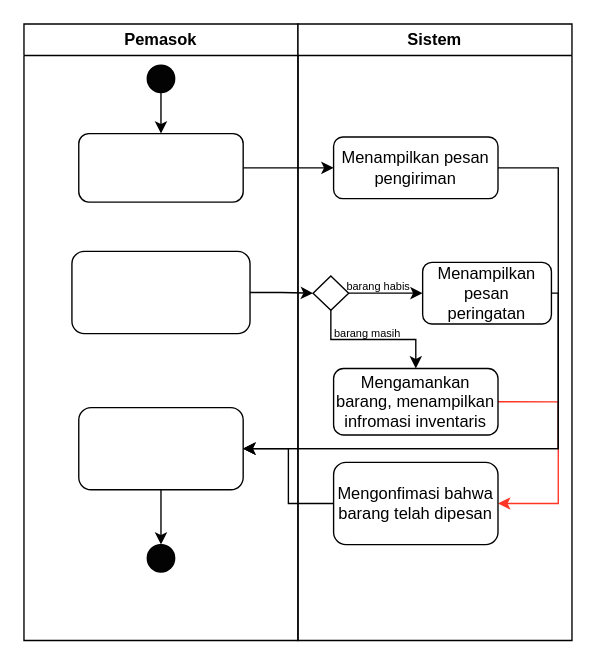
Image size: 596x664. Some labels were removed from this diagram. The box of each missing label's shape, as (x1, y1, x2, y2) in pixels:
Meminta pemeriksaan inventaris atas barang untuk pesanan pengiriman: (71, 250, 250, 334)
Meminta pesanan pengiriman berikutnya: (77, 132, 243, 202)
Menerima konfirmasi: (77, 406, 243, 490)
